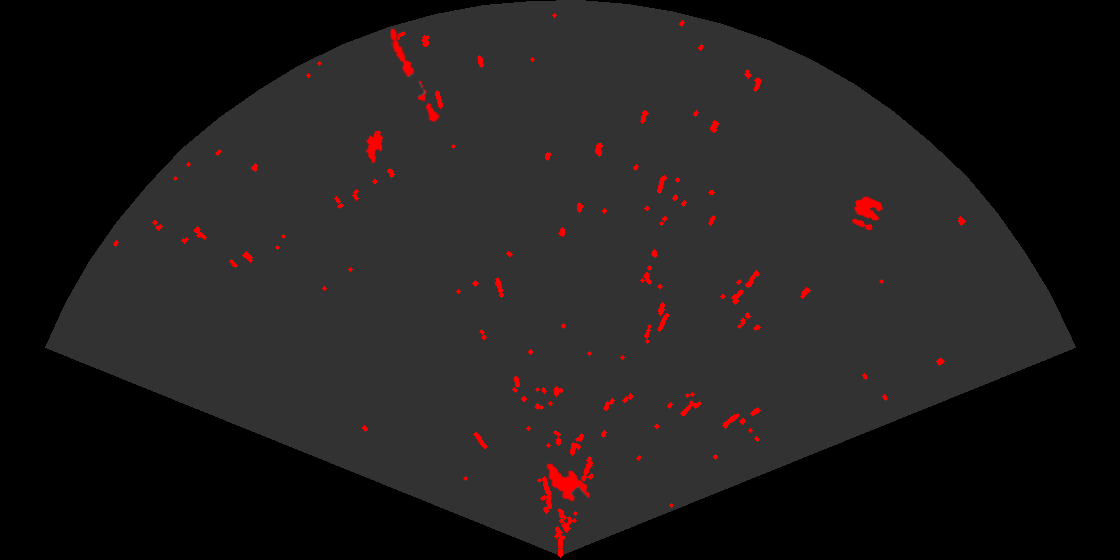AUV: (545, 462, 592, 503), (365, 129, 384, 165)
ball: (850, 195, 885, 232)
chain: (388, 27, 441, 124)
